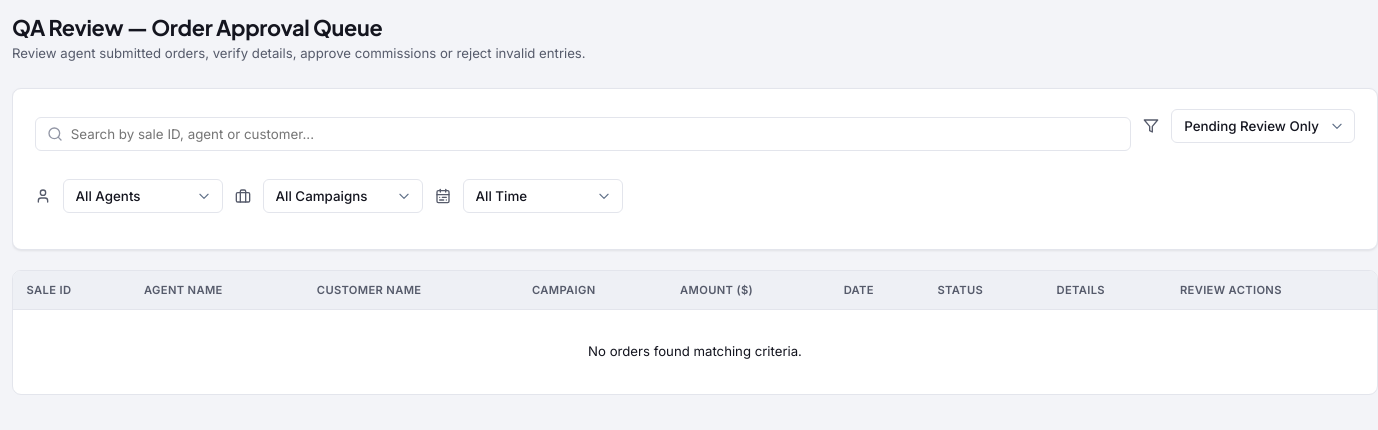
Scenario: QASalesApproval agent filter › filters the table down to just the selected agent
default status filter starts on Pending -- switch to All so both rows are visible first
Select "All Statuses" in the 1st dropdown showing "pending review only" at (1263, 126), box [1171,109,1355,143]
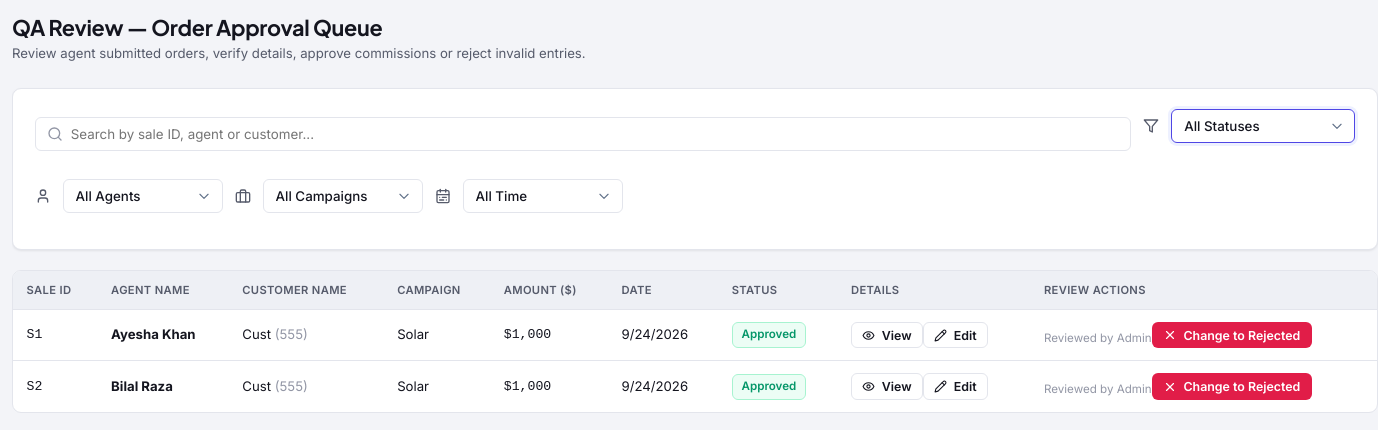
Expected: the text "S1" is shown, [13,309,98,361]
Expected: the text "S2" is shown, [13,361,98,412]
Select "Bilal Raza" in the dropdown named "filter by agent" at (143, 196), box [63,179,223,213]
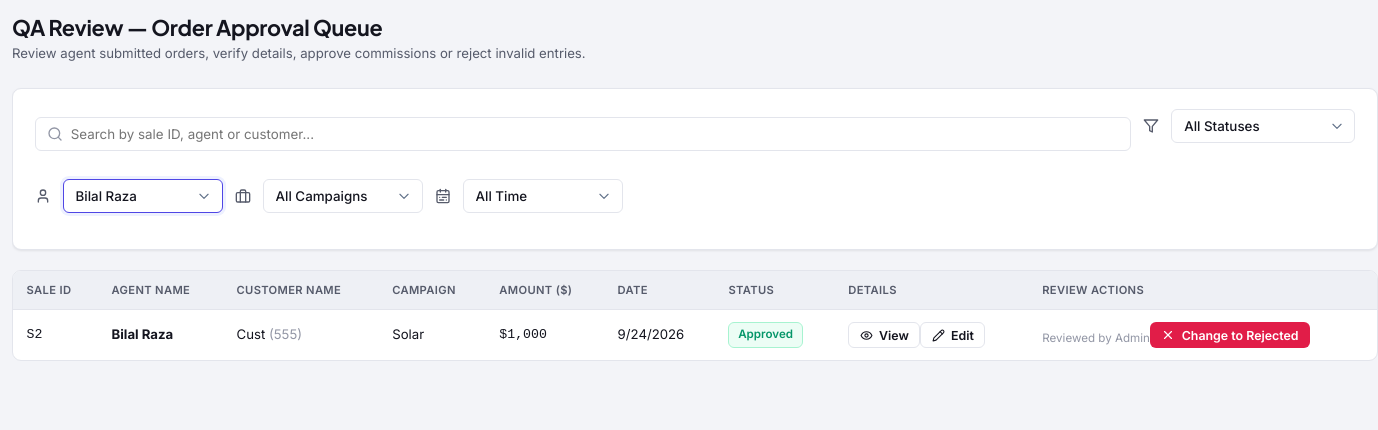
Expected: the text "S2" is shown, [13,309,98,360]
Expected: the text "S1" is gone
